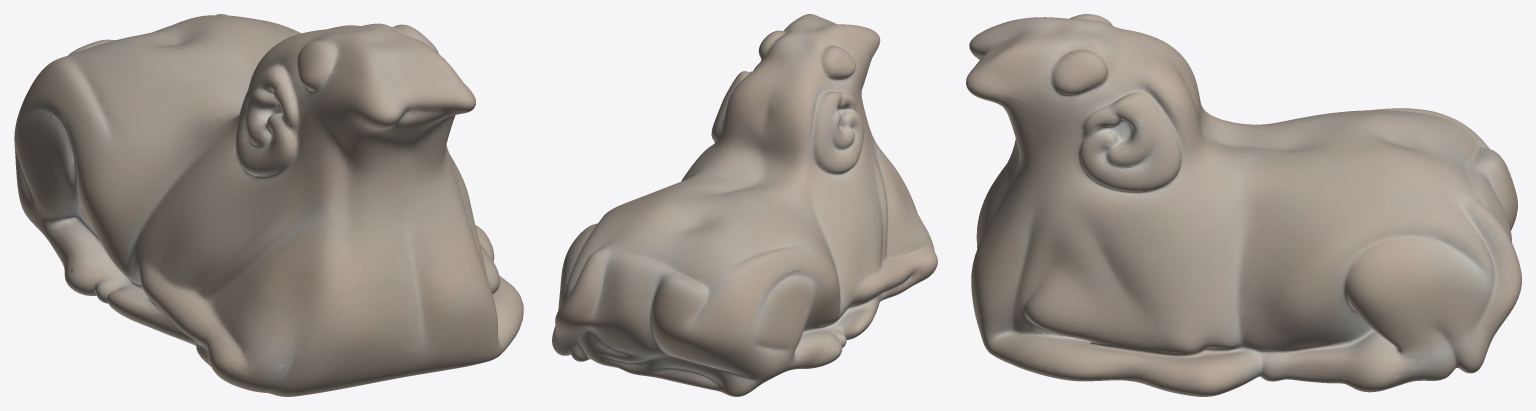
3 views of the same model, side by side, from view 1: azimuth 30°, elevation 25°; view 2: azimuth 150°, elevation 25°; view 3: azimuth 270°, elevation 25° (orthographic). The views are drawn at different scales.
Parts seen in each view (by area): view 1: node_0; view 2: node_0; view 3: node_0.
Part boxes in pixels (left/top/right/bottom): node_0: left=14, top=14, right=523, bottom=396; node_0: left=552, top=14, right=937, bottom=396; node_0: left=966, top=14, right=1521, bottom=396.
Size of the model in its own units: 0.7377 by 0.6309 by 1.08.
1 material, 1 textured.
